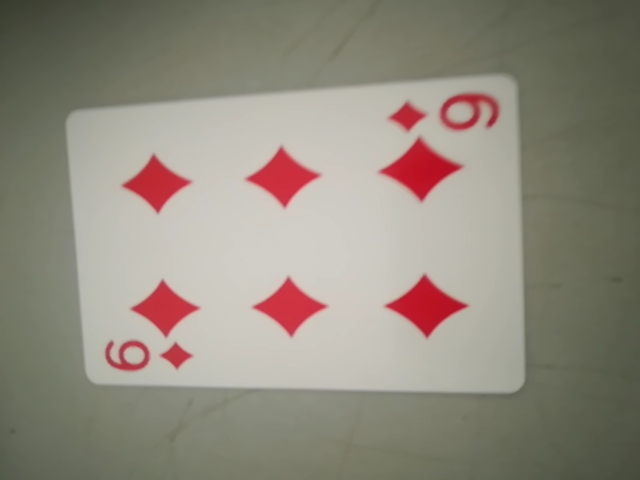fk 6: (386, 85, 502, 141), (100, 332, 193, 383)
